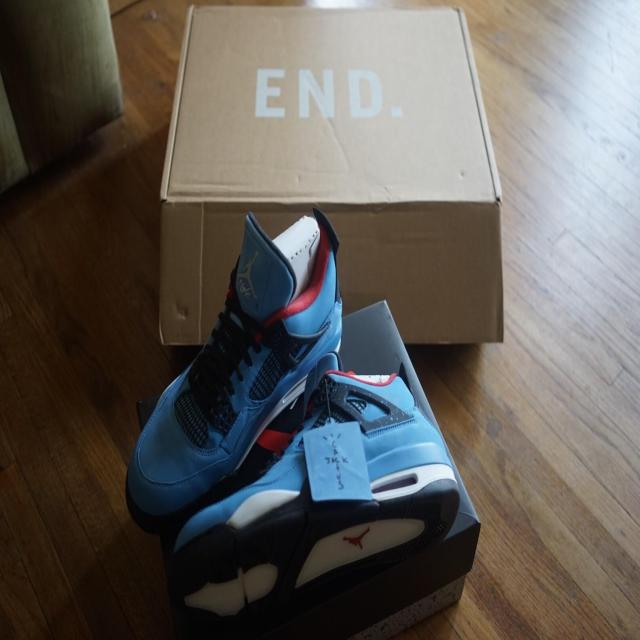shoe: (118, 170, 352, 573), (165, 369, 465, 615)
